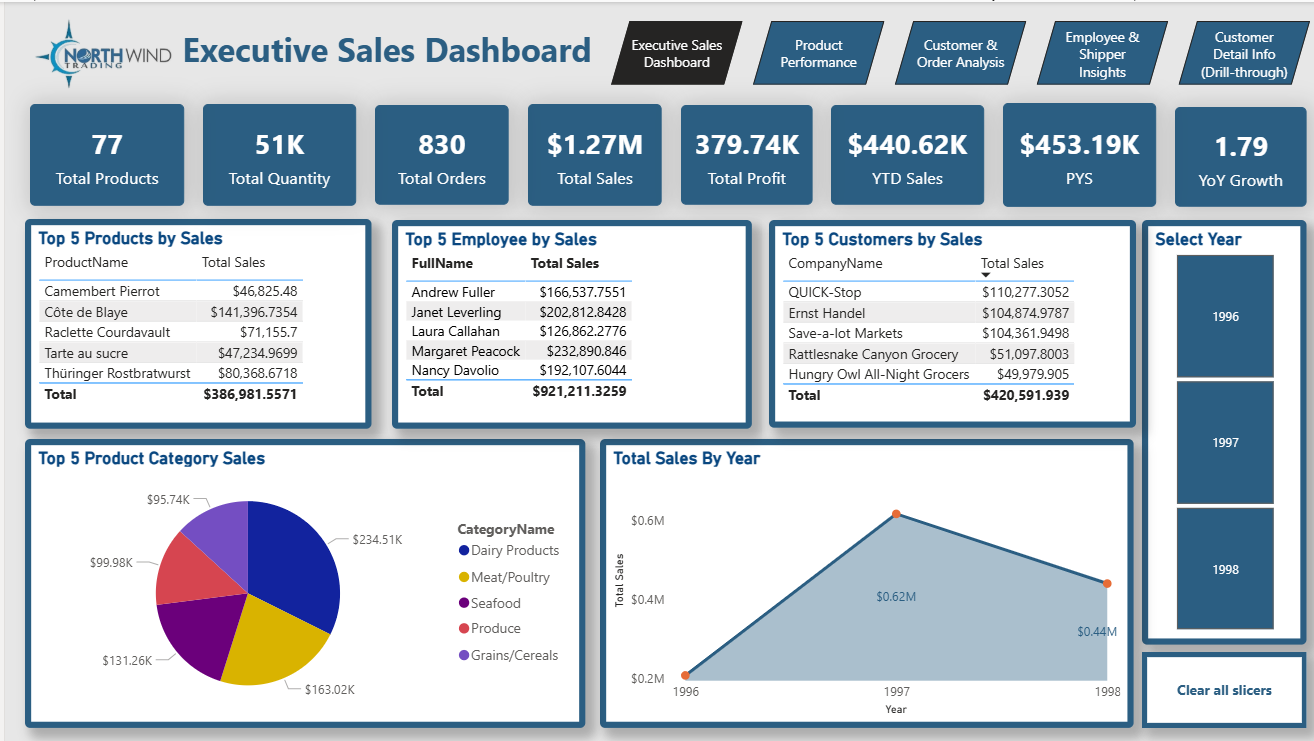

This screenshot's page, from the dashboard's own definition file:
{"tool":"powerbi","page":{"name":"Executive Sales Dashboard","canvas":[1280,720],"ordinal":0},"visuals":[{"type":"card","fields":{"Values":["Measurestbl.Total Sales"]},"box":[508.6,99.6,130.3,99.2],"z":0},{"type":"textbox","box":[167.3,18.5,441.6,62.2],"z":1000},{"type":"image","box":[14.6,0,173.1,122.6],"z":2000},{"type":"card","fields":{"Values":["Measurestbl.YTD Sales"]},"box":[803.8,100.5,148.8,97.3],"z":3000},{"type":"card","fields":{"Values":["Measurestbl.YoY Growth"]},"box":[1138,102.1,128.4,97.3],"z":4000},{"type":"card","fields":{"Values":["Measurestbl.Total Orders"]},"box":[359.9,100.5,130.3,97.3],"z":5000},{"type":"tableEx","title":"Top 5 Products by Sales","fields":{"Values":["DimProudcts.ProductName","Measurestbl.Total Sales"]},"box":[19.5,211.1,336.5,204.3],"z":6000},{"type":"card","fields":{"Values":["Measurestbl.Previous Year Sales"]},"box":[970.9,98.6,148.8,101.2],"z":7000},{"type":"card","fields":{"Values":["Measurestbl.Total Quantity"]},"box":[192.9,99.6,148.8,99.2],"z":8000},{"type":"card","fields":{"Values":["Measurestbl.Total Products"]},"box":[24.3,99.6,150.3,99.2],"z":9000},{"type":"slicer","title":"Select Year","fields":{"Values":["DimDate.Year"]},"box":[1105.9,212,160.5,413.4],"z":10000},{"type":"card","fields":{"Values":["Measurestbl.Total Profit"]},"box":[657.2,100.5,128.4,97.3],"z":11000},{"type":"pageNavigator","box":[589.4,18.5,684.7,62.2],"z":12000},{"type":"stackedAreaChart","title":"Total Sales By Year","fields":{"Category":["DimDate.Year"],"Y":["Measurestbl.Total Sales"]},"box":[578.7,425,519.4,281.1],"z":13000},{"type":"pieChart","title":"Top 5 Product Category Sales","fields":{"Category":["DimProudcts.CategoryName"],"Y":["Measurestbl.Total Sales"]},"box":[19.5,425,544.7,281.1],"z":14000},{"type":"tableEx","title":"Top 5 Customers by Sales","fields":{"Values":["DimCustomer.CompanyName","Measurestbl.Total Sales"]},"box":[743.1,212,357,202.3],"z":15000},{"type":"tableEx","title":"Top 5 Employee by Sales","fields":{"Values":["DimEmployee.FullName","Measurestbl.Total Sales"]},"box":[376.4,212,350.2,203.3],"z":16000},{"type":"actionButton","box":[1105.9,632.2,160.5,73.9],"z":17000}]}

Visuals, with their boxes in screenshot pixels (x1, y1, x2, y2), scaled from the page's 1280x720 canvas onto the 1314x741 screenshot:
card - Measurestbl.Total Sales: [522, 103, 656, 205]
textbox: [172, 19, 625, 83]
image: [15, 0, 193, 126]
card - Measurestbl.YTD Sales: [825, 103, 978, 204]
card - Measurestbl.YoY Growth: [1168, 105, 1300, 205]
card - Measurestbl.Total Orders: [369, 103, 503, 204]
"Top 5 Products by Sales" tableEx: [20, 217, 365, 428]
card - Measurestbl.Previous Year Sales: [997, 101, 1149, 206]
card - Measurestbl.Total Quantity: [198, 103, 351, 205]
card - Measurestbl.Total Products: [25, 103, 179, 205]
"Select Year" slicer: [1135, 218, 1300, 644]
card - Measurestbl.Total Profit: [675, 103, 806, 204]
pageNavigator: [605, 19, 1308, 83]
"Total Sales By Year" stackedAreaChart: [594, 437, 1127, 727]
"Top 5 Product Category Sales" pieChart: [20, 437, 579, 727]
"Top 5 Customers by Sales" tableEx: [763, 218, 1129, 426]
"Top 5 Employee by Sales" tableEx: [386, 218, 746, 427]
actionButton: [1135, 651, 1300, 727]
